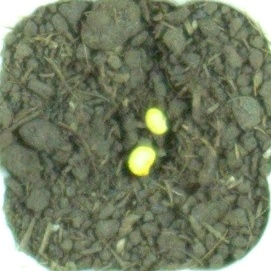pepper seed: (48, 56, 205, 234), (58, 40, 229, 175)
